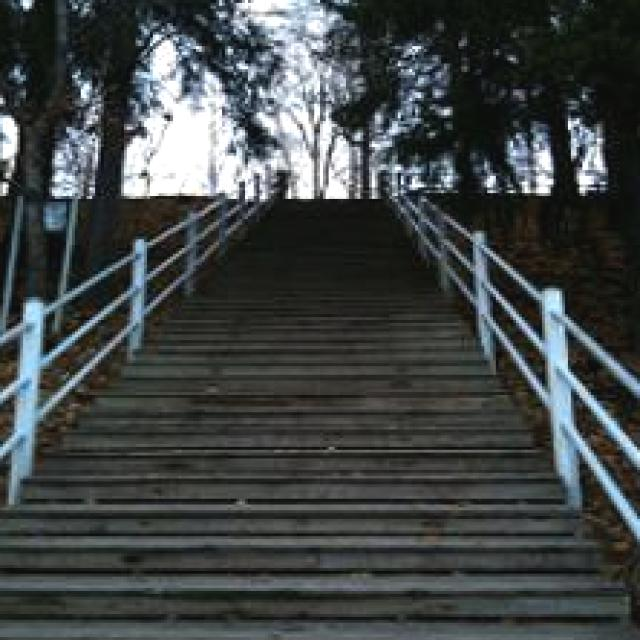upstair: (15, 284, 572, 627)
